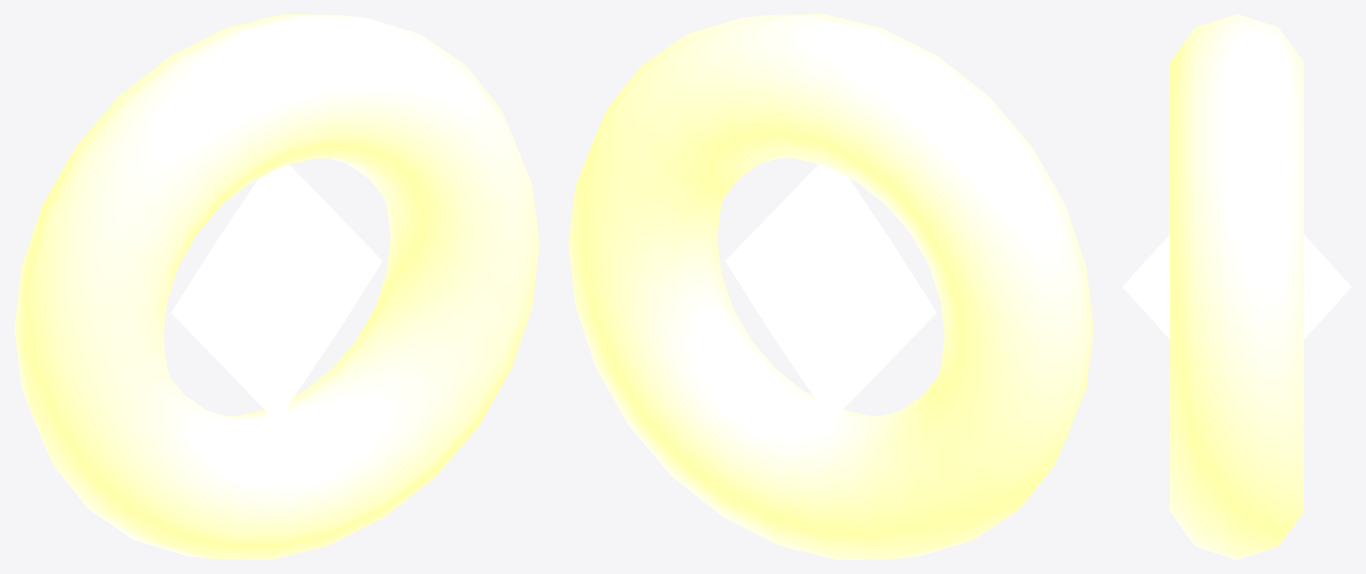
The model's file is Quantum-Coin-v3.0.0.glb.
The picture shows the model from 3 angles, left to right: view 1: azimuth 30°, elevation 25°; view 2: azimuth 150°, elevation 25°; view 3: azimuth 270°, elevation 25°; orthographic projection. The views are drawn at different scales.
Visible parts, largest first — view 1: ring, core; view 2: ring, core; view 3: ring, core.
Boxes of the visible parts, x1,y1,x2,y2 form: ring: [14, 14, 539, 559]; core: [171, 164, 382, 418]; ring: [568, 14, 1093, 559]; core: [725, 164, 936, 418]; ring: [1170, 14, 1303, 559]; core: [1122, 234, 1351, 339].
Size of the model in its own units: 0.86 by 0.854 by 0.36.
